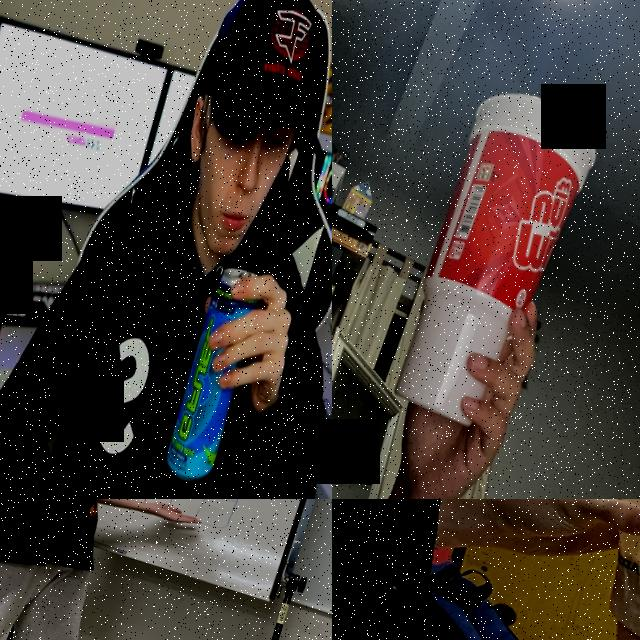can: (157, 263, 270, 487)
cup: (384, 80, 608, 441), (554, 499, 640, 640)
